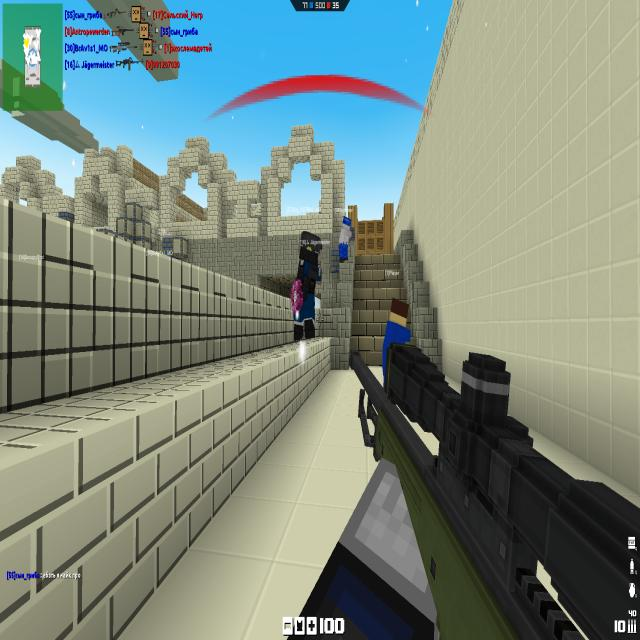player: (293, 231, 322, 338), (382, 297, 411, 380), (340, 215, 352, 260)
